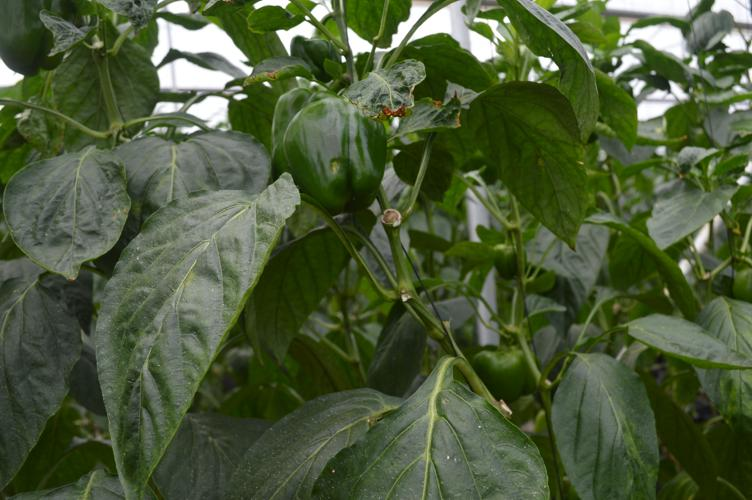BellPepper: (291, 101, 385, 204), (270, 90, 329, 168), (473, 352, 543, 401), (289, 36, 337, 79)
